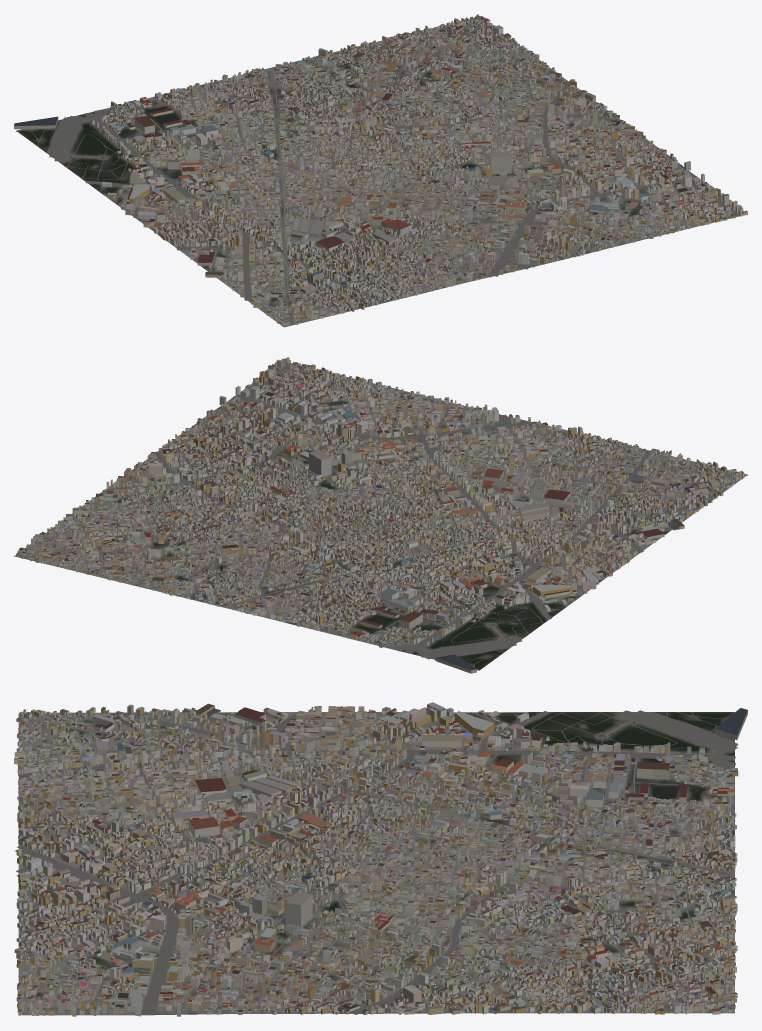
3 renders of one model, top to bottom at view 1: azimuth 30°, elevation 25°; view 2: azimuth 150°, elevation 25°; view 3: azimuth 270°, elevation 25°, orthographic. The views are drawn at different scales.
Parts seen in each view (by area): view 1: buildings, ground, roads; view 2: buildings, ground, roads; view 3: buildings, ground, roads.
Part boxes in pixels (x1=…): buildings: x1=14, y1=14, x2=747, y2=326; ground: x1=16, y1=18, x2=747, y2=327; roads: x1=16, y1=18, x2=739, y2=326; buildings: x1=16, y1=357, x2=744, y2=673; ground: x1=14, y1=365, x2=747, y2=670; roads: x1=20, y1=363, x2=746, y2=670; buildings: x1=14, y1=702, x2=747, y2=1016; ground: x1=18, y1=712, x2=734, y2=1015; roads: x1=15, y1=710, x2=738, y2=1015.
Bounding box in the file's own units: 1431 × 55.57 × 1435.
